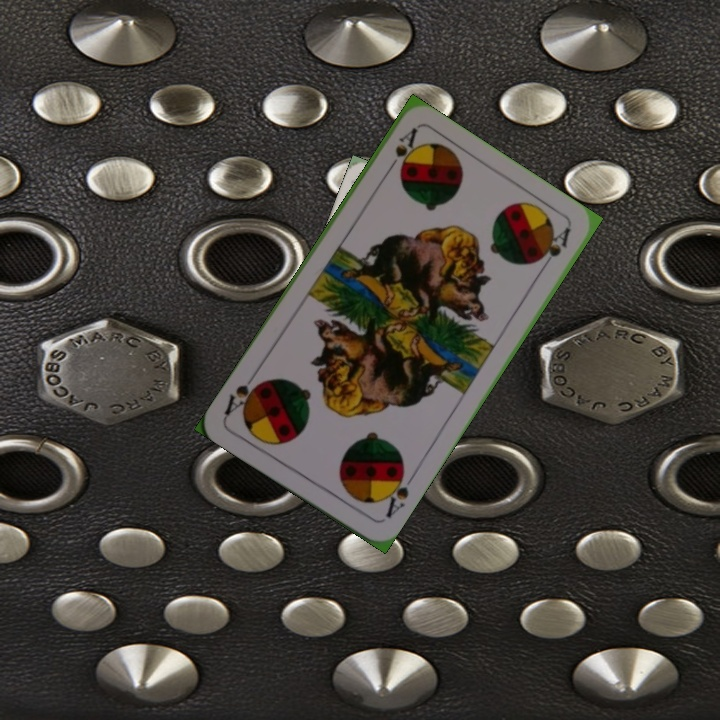SA: (381, 124, 420, 178), (377, 464, 412, 521)
